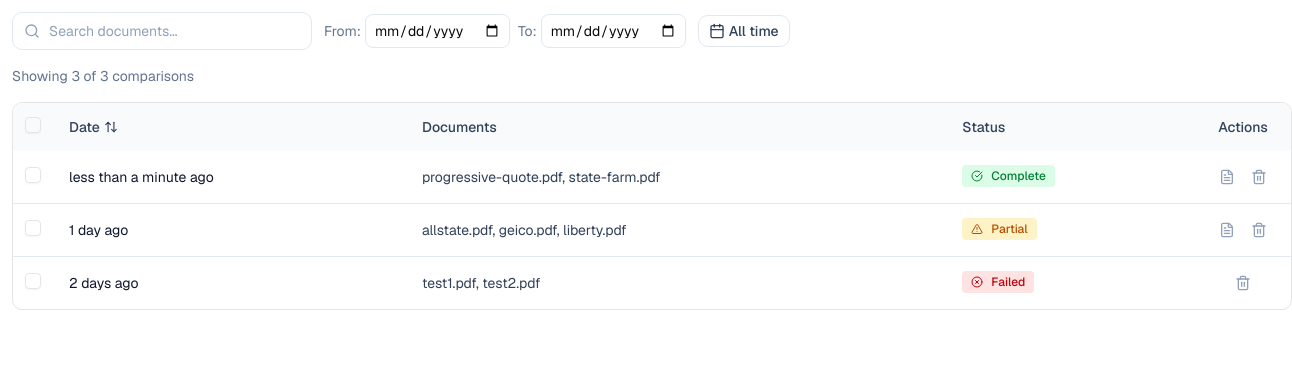
Test case: ComparisonHistory › AC-7.7.3 & AC-7.7.7: Delete Functionality › shows bulk delete button when items selected
Note: Select first checkbox (not header)
Click the checkbox named "Select comparison from 2025-12-15T02:33:06.889Z".
click(33, 175)  # box [25, 167, 41, 183]
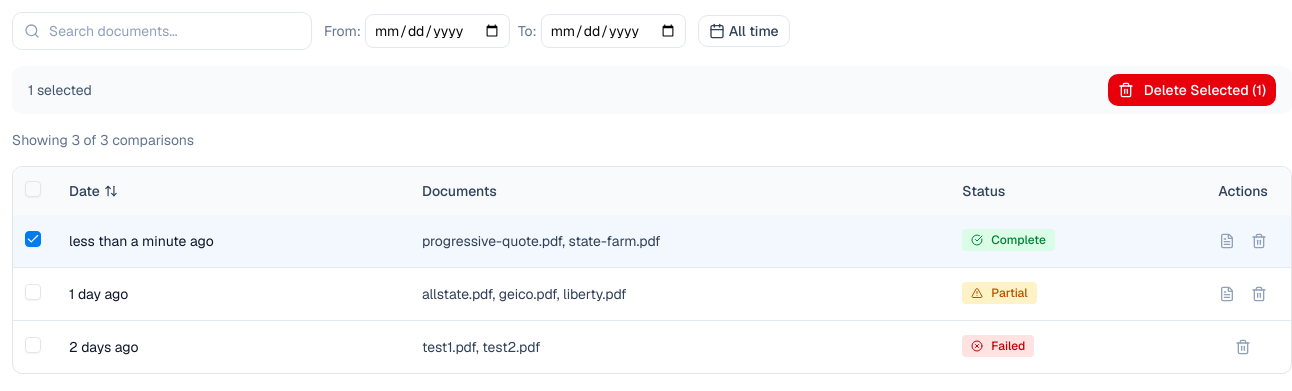
Expected: the text "1 selected" is shown, [28, 80, 92, 100]
Expected: the button "Delete Selected (1)" is shown, [1108, 74, 1276, 106]
